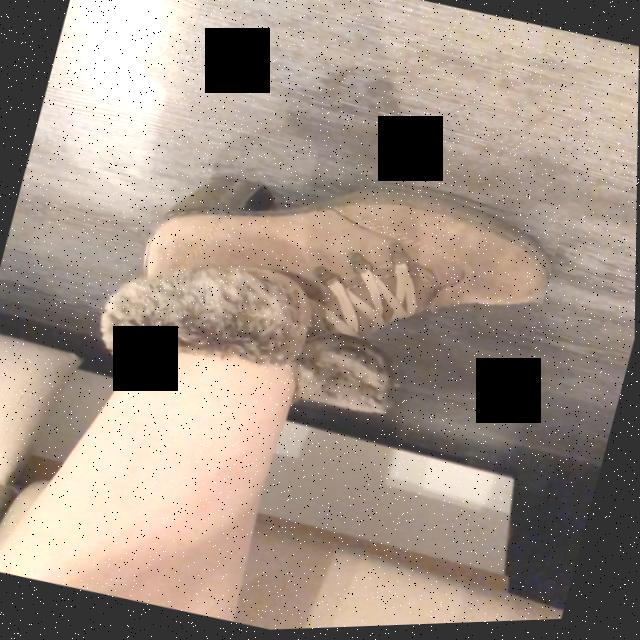shoe: (144, 190, 552, 340)
